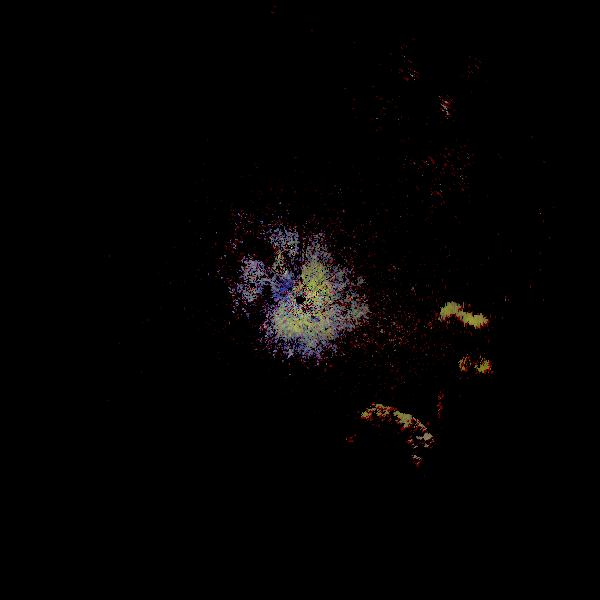roost: (398, 300, 600, 555), (405, 270, 576, 441), (322, 379, 475, 532)
